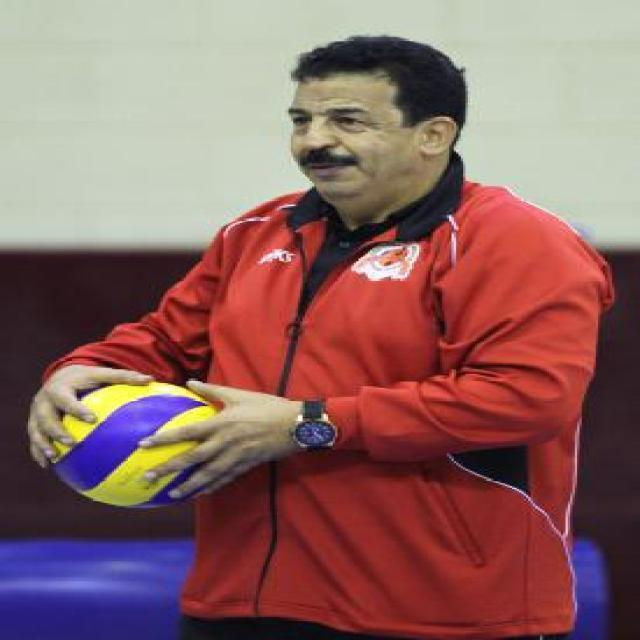volleyball: (47, 380, 219, 510)
